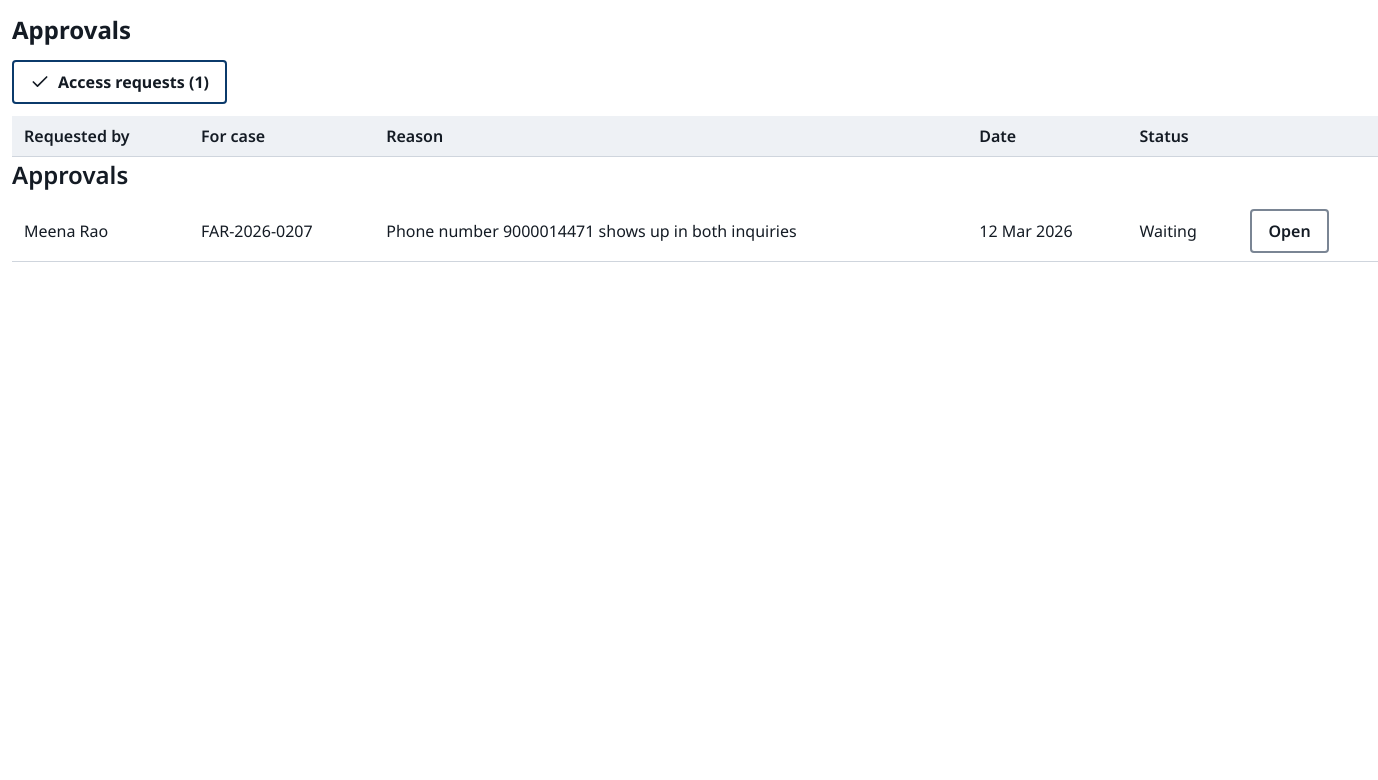
Test case: the note field stops at 200 characters
Click the button "Open" at point(1290, 231), box top-left (1250, 209), bottom-right (1329, 253)
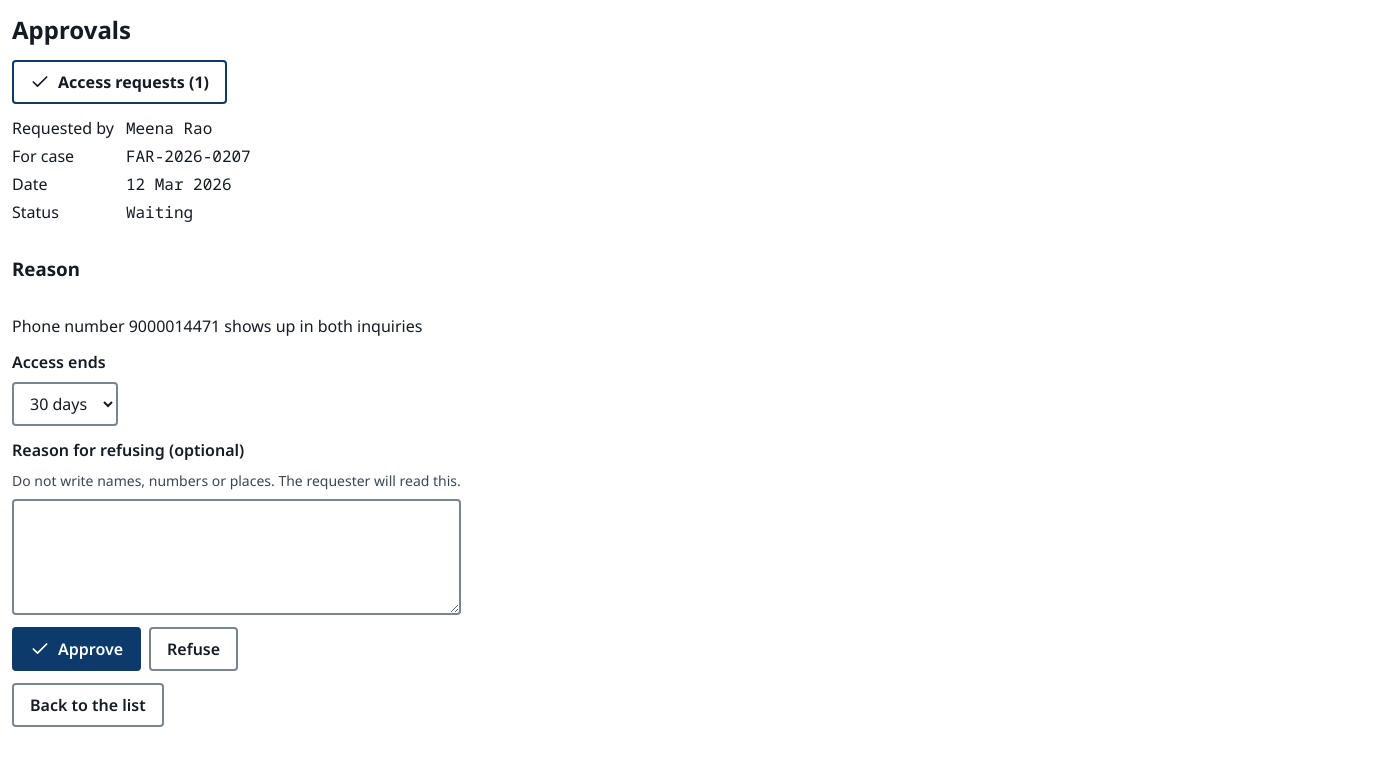
Check: the text "Do not write names, numbers or places. The requester will read this." is shown, box top-left (12, 470), bottom-right (461, 490)
